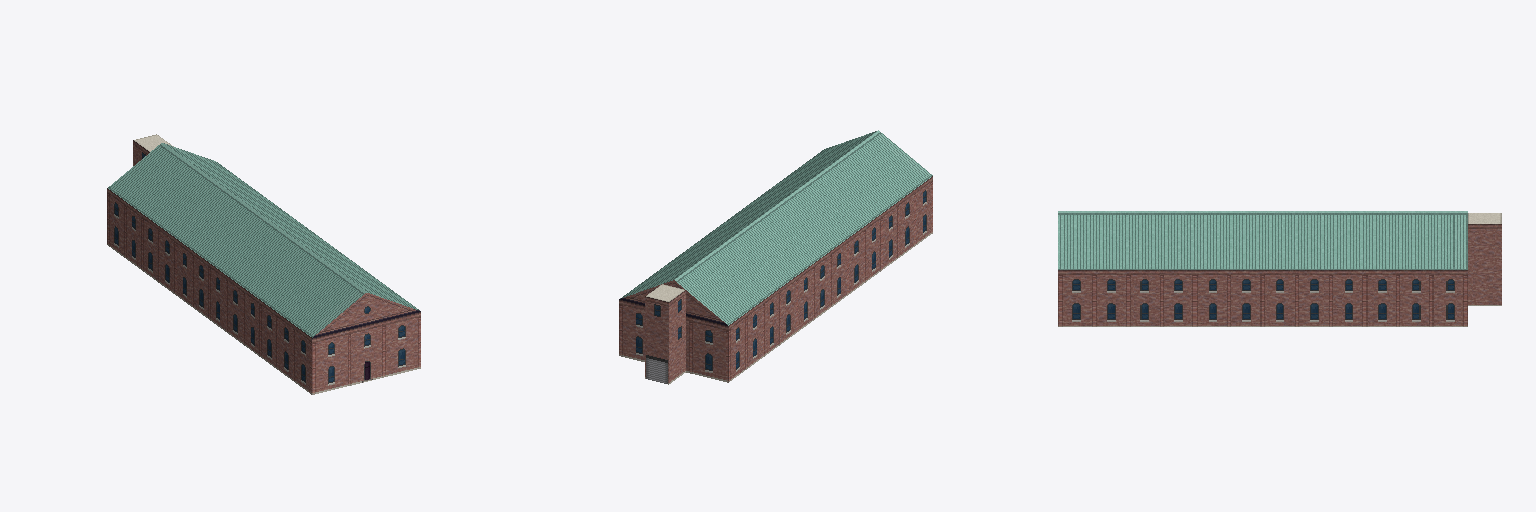
3 views of the same model, side by side, from view 1: azimuth 30°, elevation 25°; view 2: azimuth 150°, elevation 25°; view 3: azimuth 270°, elevation 25° (orthographic).
Size of the model in its own units: 60 by 47 by 211.
1 materials, 1 textured.